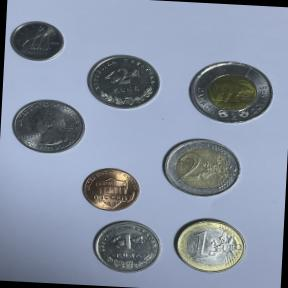1 Euro: (168, 213, 250, 277)
2 Euro: (156, 134, 246, 204)
Canda-10cent-: (7, 17, 67, 66)
Canda-2Dollar-: (182, 56, 280, 129)
Croatia-2Kune-: (81, 50, 165, 114)
US-1cent-: (78, 164, 144, 215)
US-25cent-: (6, 94, 89, 158)
